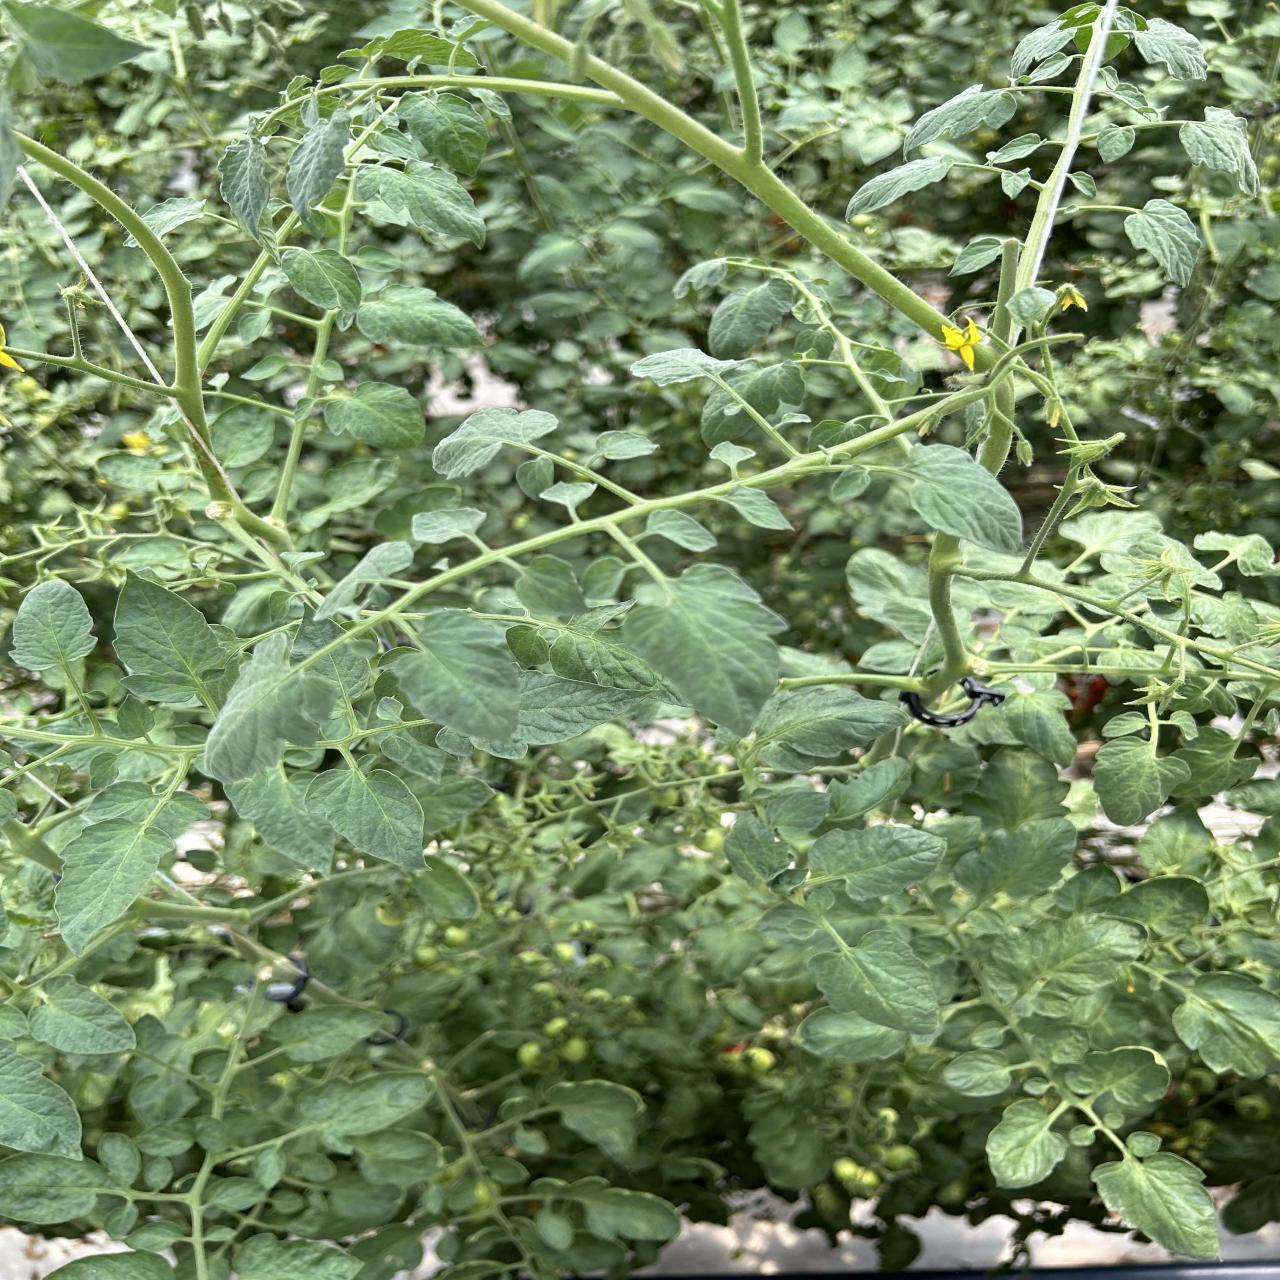Hoja: (43, 781, 209, 955), (619, 564, 785, 735), (205, 631, 369, 781), (382, 608, 522, 745), (113, 572, 243, 719), (809, 921, 940, 1034), (1091, 1153, 1219, 1259), (903, 444, 1023, 553), (306, 769, 423, 869), (11, 579, 96, 700), (808, 825, 946, 899), (0, 1040, 82, 1160), (1092, 736, 1190, 823), (0, 1153, 110, 1225), (356, 286, 481, 348), (986, 1098, 1069, 1187), (286, 117, 352, 225), (324, 381, 424, 449), (280, 247, 361, 329), (218, 137, 270, 237), (941, 1050, 1012, 1097)
Pedunculo: (458, 0, 948, 340), (380, 420, 911, 619), (21, 137, 232, 499), (1017, 0, 1116, 292)
